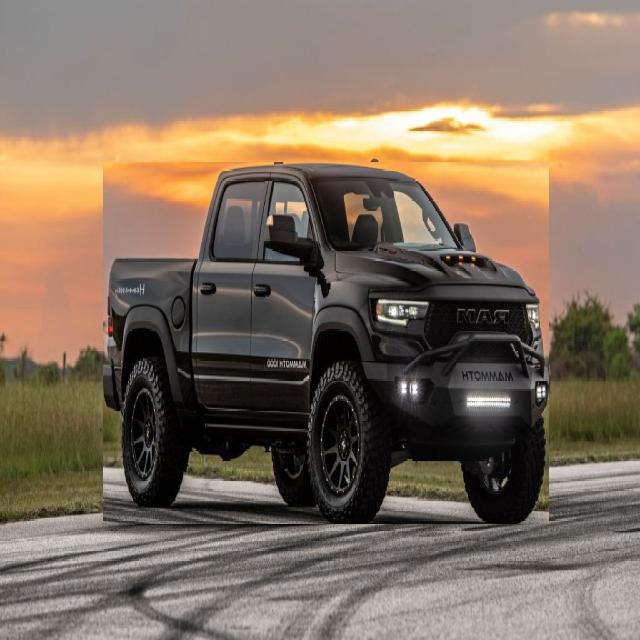truck: (104, 163, 549, 524)
